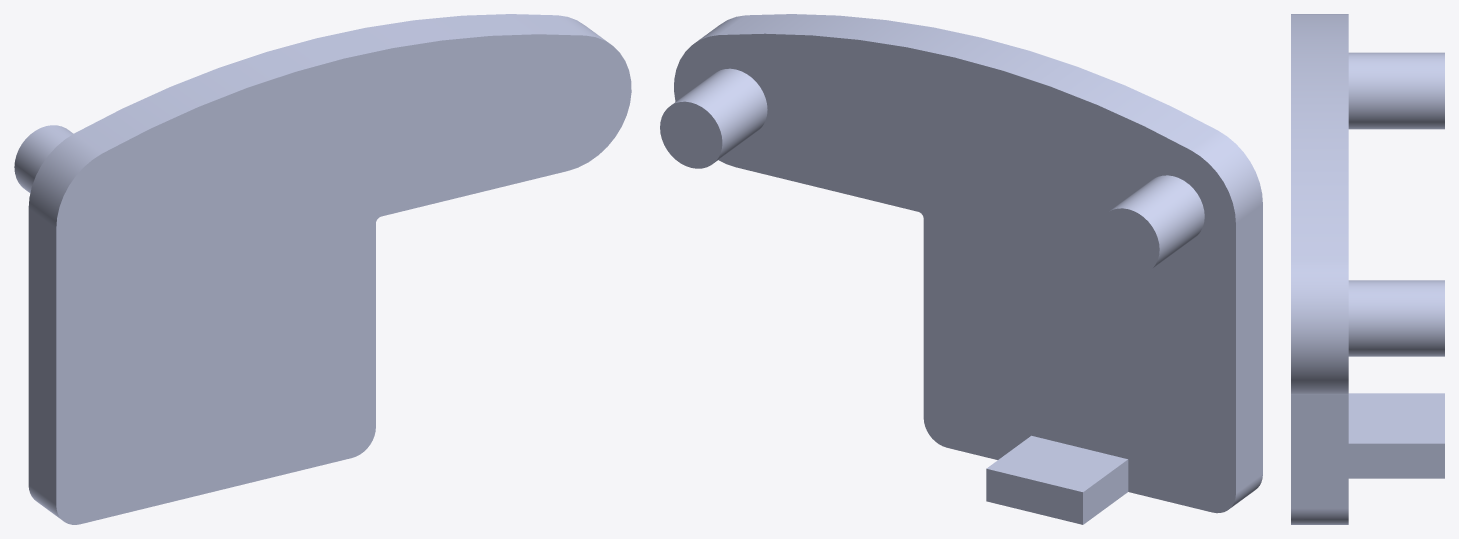
The model's file is TPMA-TPMA-H-2436-L.glb.
The picture shows the model from 3 angles, left to right: view 1: azimuth 30°, elevation 25°; view 2: azimuth 150°, elevation 25°; view 3: azimuth 270°, elevation 25°; orthographic projection. The views are drawn at different scales.
Visible parts, largest first — view 1: 1741081166926; view 2: 1741081166926; view 3: 1741081166926.
Part boxes in pixels (<box>): 1741081166926: <box>14,14,631,524</box>; 1741081166926: <box>660,14,1262,524</box>; 1741081166926: <box>1291,14,1444,524</box>.
Size of the model in its own units: 0.036 by 0.024 by 0.008.
